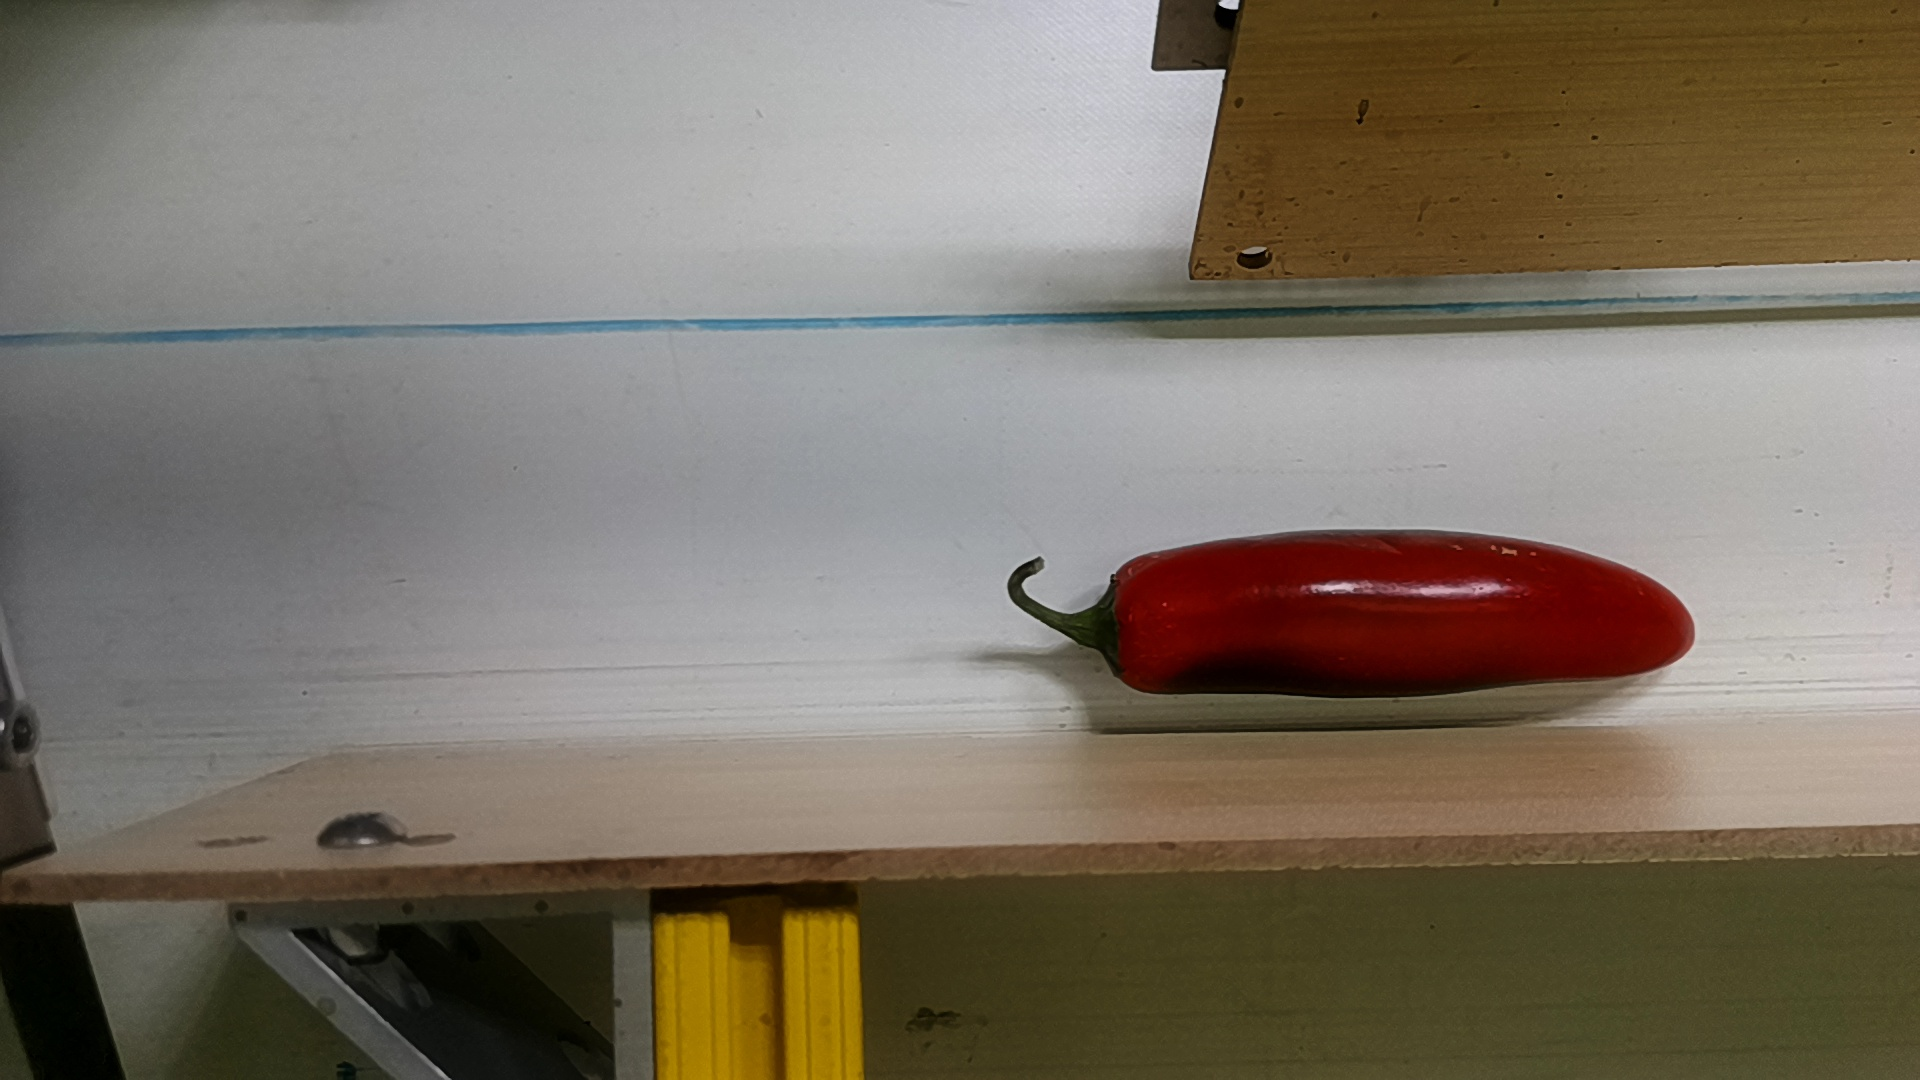Cut Point: (1085, 545, 1164, 698)
